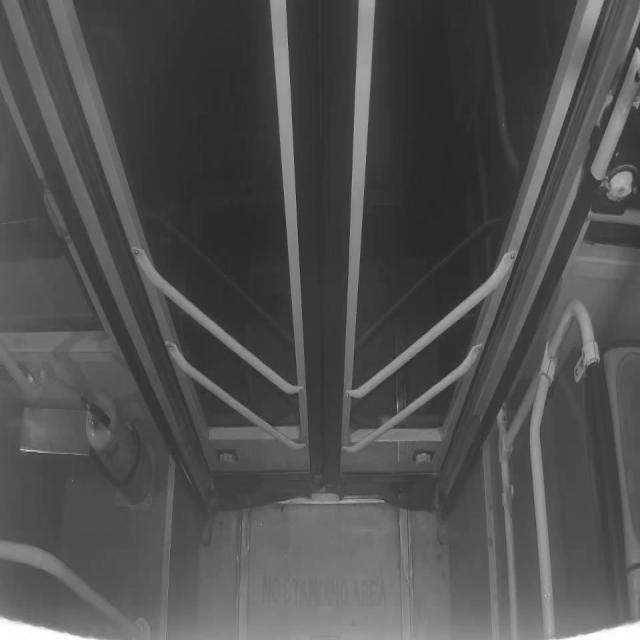close: (77, 1, 579, 487)
